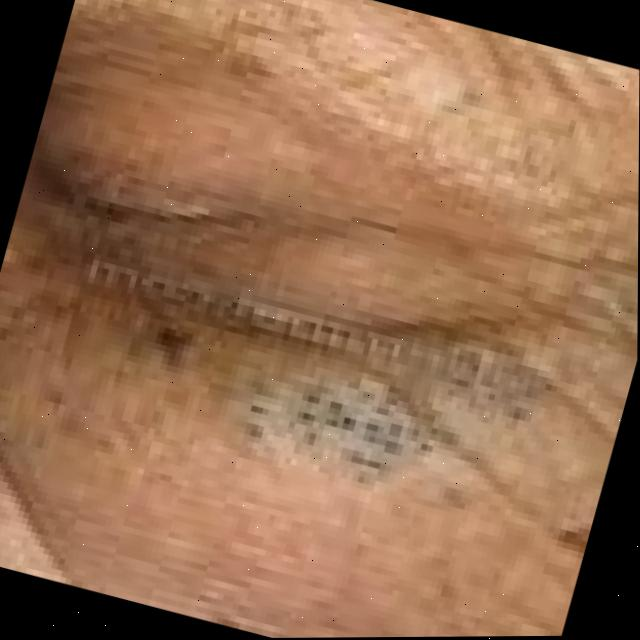Melasma: (225, 273, 574, 545)
